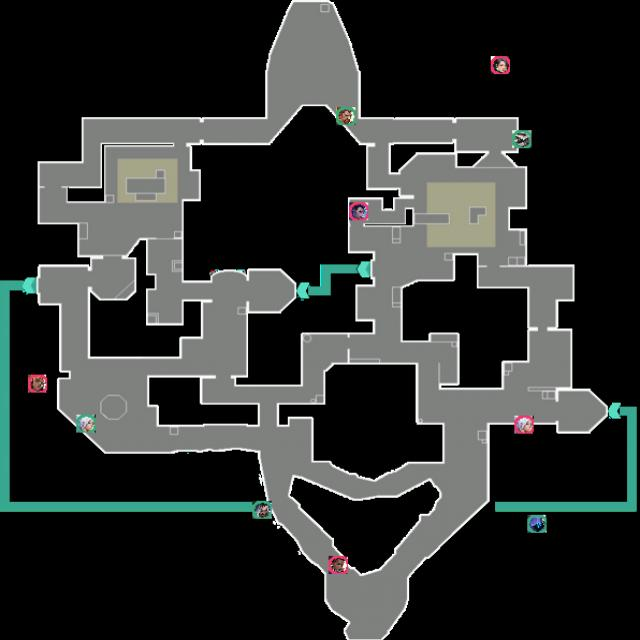atk_astra: (329, 556, 348, 574)
atk_jett: (514, 416, 534, 434)
atk_raze: (28, 374, 47, 392)
atk_sage: (491, 56, 510, 74)
atk_yoru: (349, 202, 368, 220)
def_breach: (336, 107, 356, 125)
def_cypher: (512, 130, 532, 148)
def_fade: (252, 501, 272, 519)
def_jett: (76, 414, 96, 432)
def_omen: (527, 515, 547, 533)
